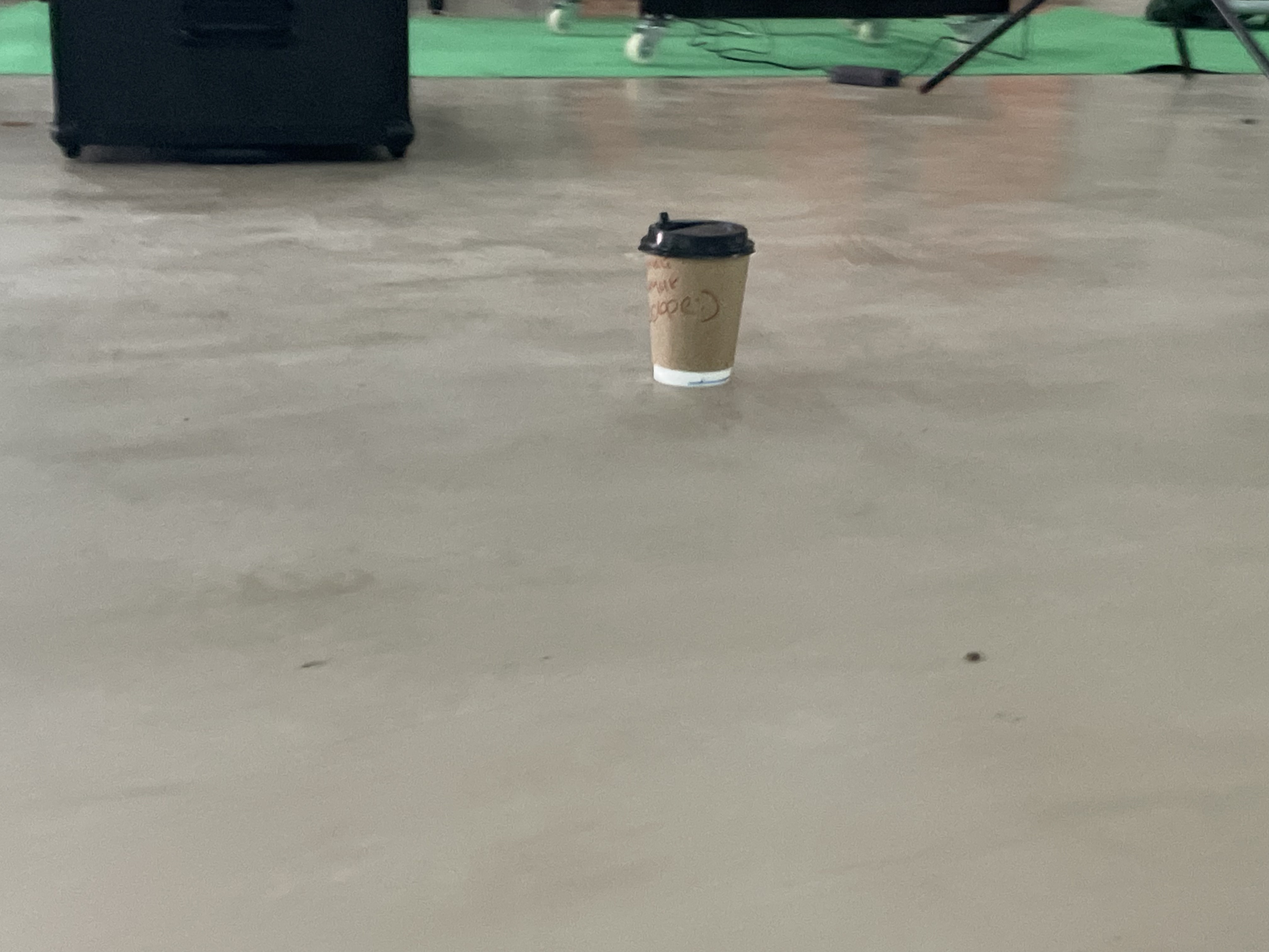cup: (638, 211, 755, 386)
